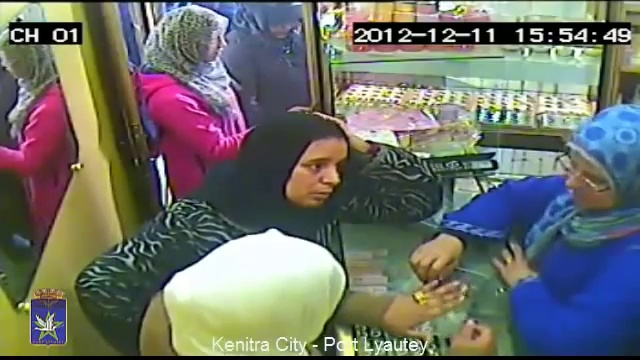face: (560, 151, 616, 206), (296, 149, 344, 205)
